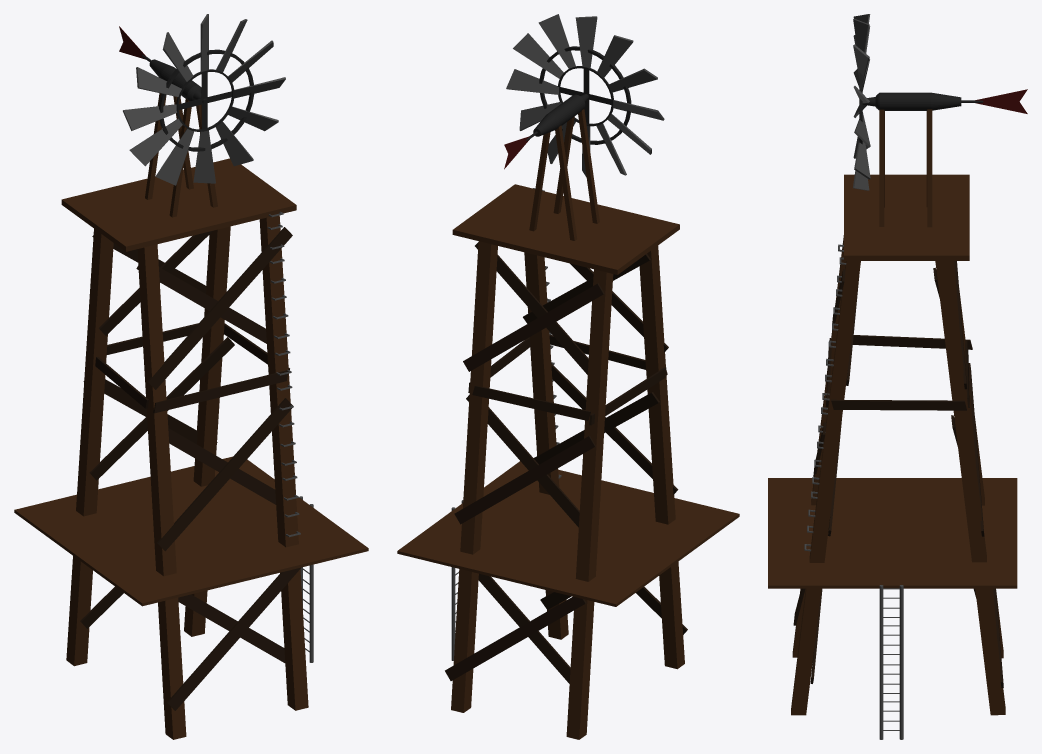
The model's file is windMill.obj.
3 renders of one model, left to right at view 1: azimuth 30°, elevation 25°; view 2: azimuth 150°, elevation 25°; view 3: azimuth 270°, elevation 25°, orthographic. The views are drawn at different scales.
Parts seen in each view (by area): view 1: Cube.003_Cube.013, Cube.006_Cube.018, Cube.049_Cube.064, Cube.040_Cube.053, Circle.001_Circle.002, Cube.031_Cube.044, Cylinder.018_Cylinder.023, Cube.045_Cube.060, Cylinder.002_Cylinder.007; view 2: Cube.003_Cube.013, Cube.006_Cube.018, Cube.049_Cube.064, Cube.040_Cube.053, Circle.001_Circle.002, Cylinder.018_Cylinder.023, Cube.045_Cube.060; view 3: Cube.006_Cube.018, Cube.003_Cube.013, Cube.049_Cube.064, Cylinder.002_Cylinder.007, Cylinder.018_Cylinder.023, Cube.040_Cube.053, Cube.031_Cube.044, Cube.055_Cube.089.
Boxes of the visible parts, x1,y1,x2,y2 form: Cube.003_Cube.013: (66,215,308,739); Cube.006_Cube.018: (14,158,368,606); Cube.049_Cube.064: (123,14,285,185); Cube.040_Cube.053: (145,93,217,217); Circle.001_Circle.002: (159,49,254,151); Cube.031_Cube.044: (267,211,300,537); Cylinder.018_Cylinder.023: (149,59,207,104); Cube.045_Cube.060: (178,72,232,129); Cylinder.002_Cylinder.007: (299,496,313,662); Cube.003_Cube.013: (445,241,687,739); Cube.006_Cube.018: (397,184,739,606); Cube.049_Cube.064: (506,14,664,177); Cube.040_Cube.053: (529,109,599,240); Circle.001_Circle.002: (539,46,631,144); Cylinder.018_Cylinder.023: (533,94,588,136); Cube.045_Cube.060: (560,69,611,123); Cube.006_Cube.018: (768,174,1017,588); Cube.003_Cube.013: (791,235,1005,715); Cube.049_Cube.064: (853,14,870,190); Cylinder.002_Cylinder.007: (879,585,903,739); Cylinder.018_Cylinder.023: (862,92,961,110); Cube.040_Cube.053: (879,109,932,227); Cube.031_Cube.044: (804,244,846,551); Cube.055_Cube.089: (975,89,1027,113).
Size of the model in its own units: 6.42 by 18.2 by 6.47.
